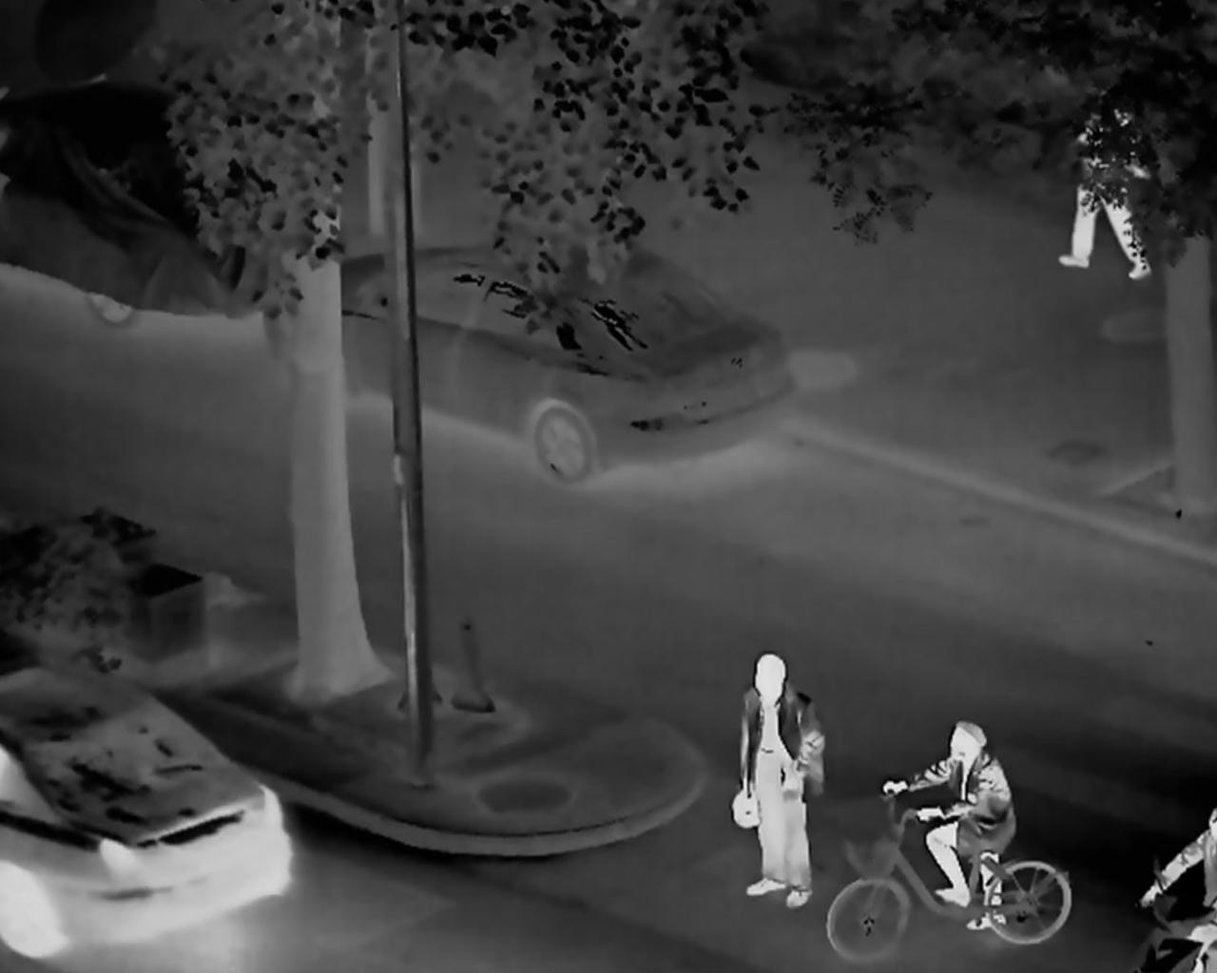person: (881, 722, 1018, 931), (729, 653, 822, 915), (1058, 92, 1151, 280), (1135, 804, 1217, 944)
